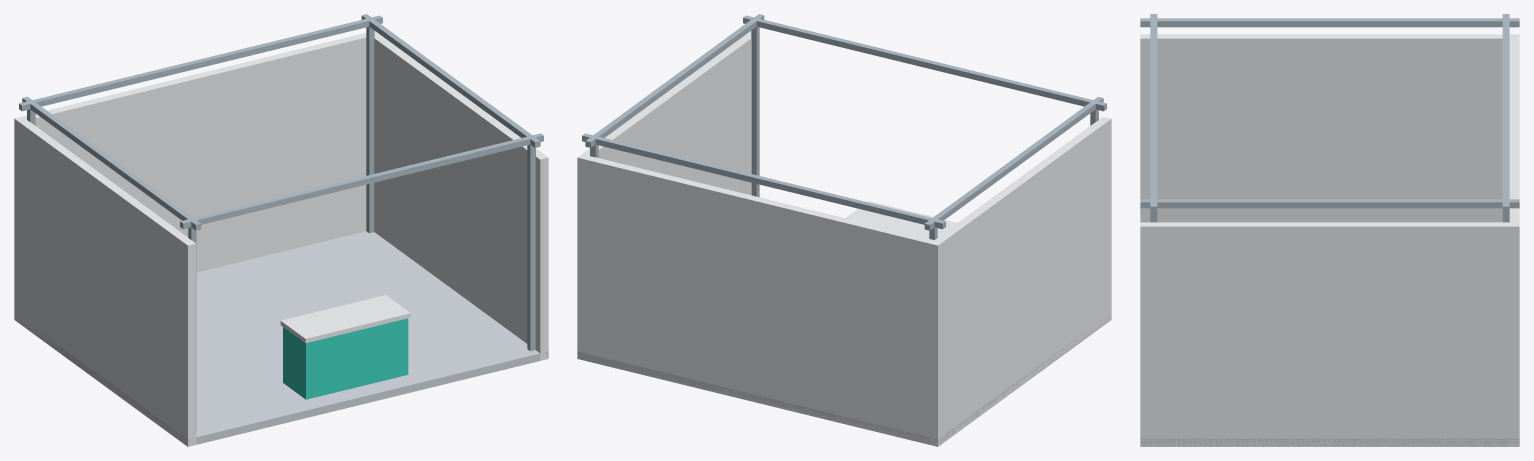
The picture shows the model from 3 angles, left to right: view 1: azimuth 30°, elevation 25°; view 2: azimuth 150°, elevation 25°; view 3: azimuth 270°, elevation 25°; orthographic projection. The views are drawn at different scales.
Visible parts, largest first — view 1: Exhibition Booth Concept; view 2: Exhibition Booth Concept; view 3: Exhibition Booth Concept.
Boxes of the visible parts, <box> form: Exhibition Booth Concept: <box>14,14,548,446</box>; Exhibition Booth Concept: <box>577,14,1111,446</box>; Exhibition Booth Concept: <box>1140,14,1519,446</box>.
Size of the model in its own units: 6 by 3.49 by 5.
